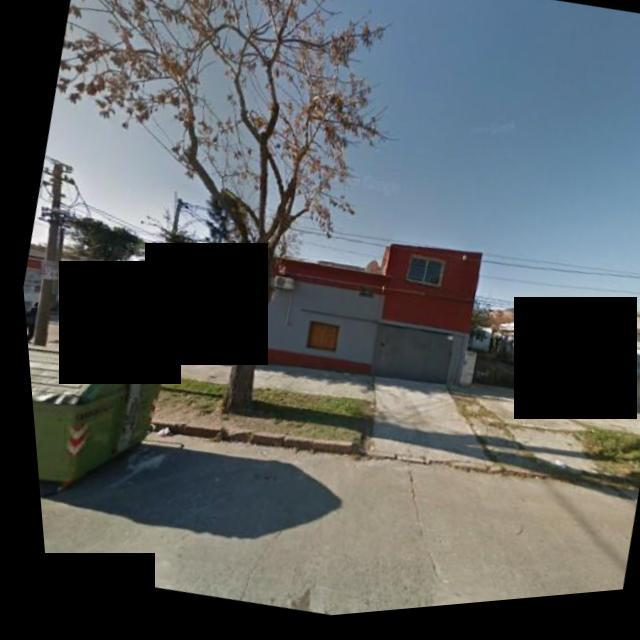bin: (21, 309, 202, 529)
